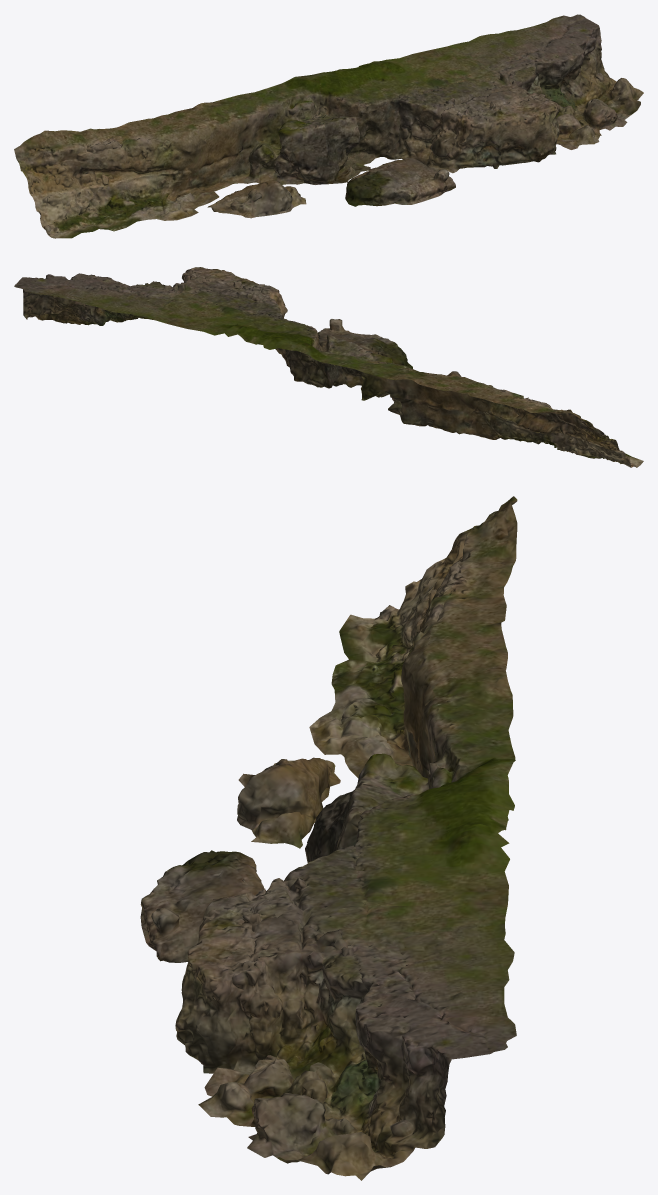
Rendered from coastal_cliff_04.glb.
3 renders of one model, top to bottom at view 1: azimuth 30°, elevation 25°; view 2: azimuth 150°, elevation 25°; view 3: azimuth 270°, elevation 25°, orthographic. The views are drawn at different scales.
Visible parts, largest first — view 1: coastal_cliff_04; view 2: coastal_cliff_04; view 3: coastal_cliff_04.
Part boxes in pixels (x1,y1,x2,y2): coastal_cliff_04: (14,14,643,238); coastal_cliff_04: (14,267,643,467); coastal_cliff_04: (140,496,517,1180).
Bounding box in the file's own units: 86.77 × 10.98 × 24.05.
Materials: 1 (1 with a texture image).
